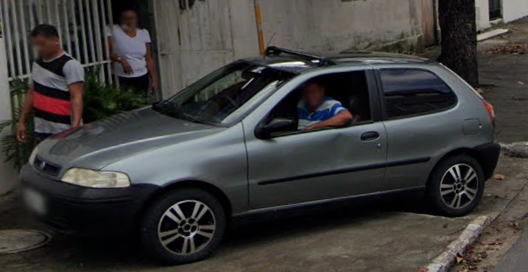car: (24, 45, 507, 257)
